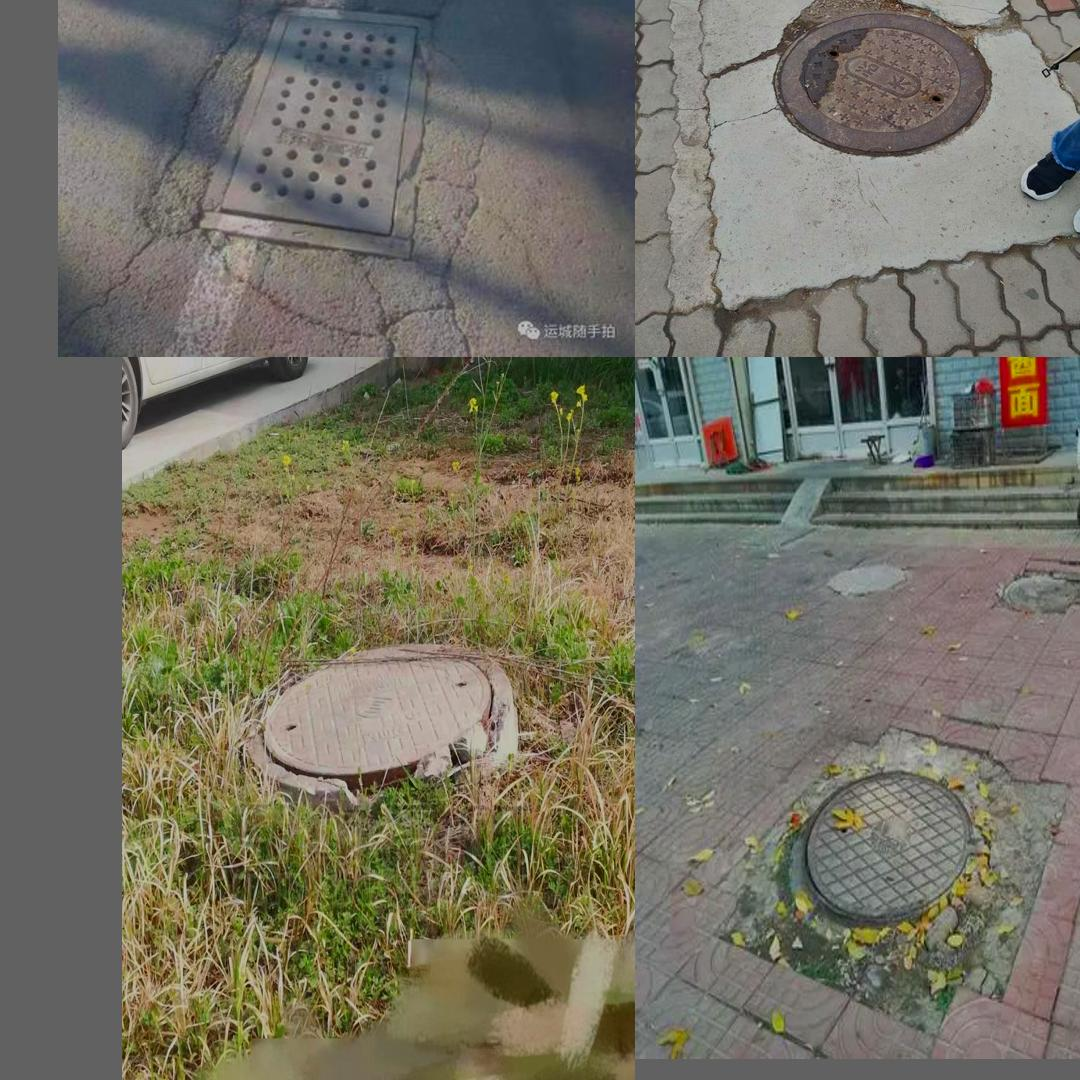circle: (132, 0, 504, 329), (740, 725, 1054, 1025), (718, 0, 1033, 180), (227, 632, 515, 812)
